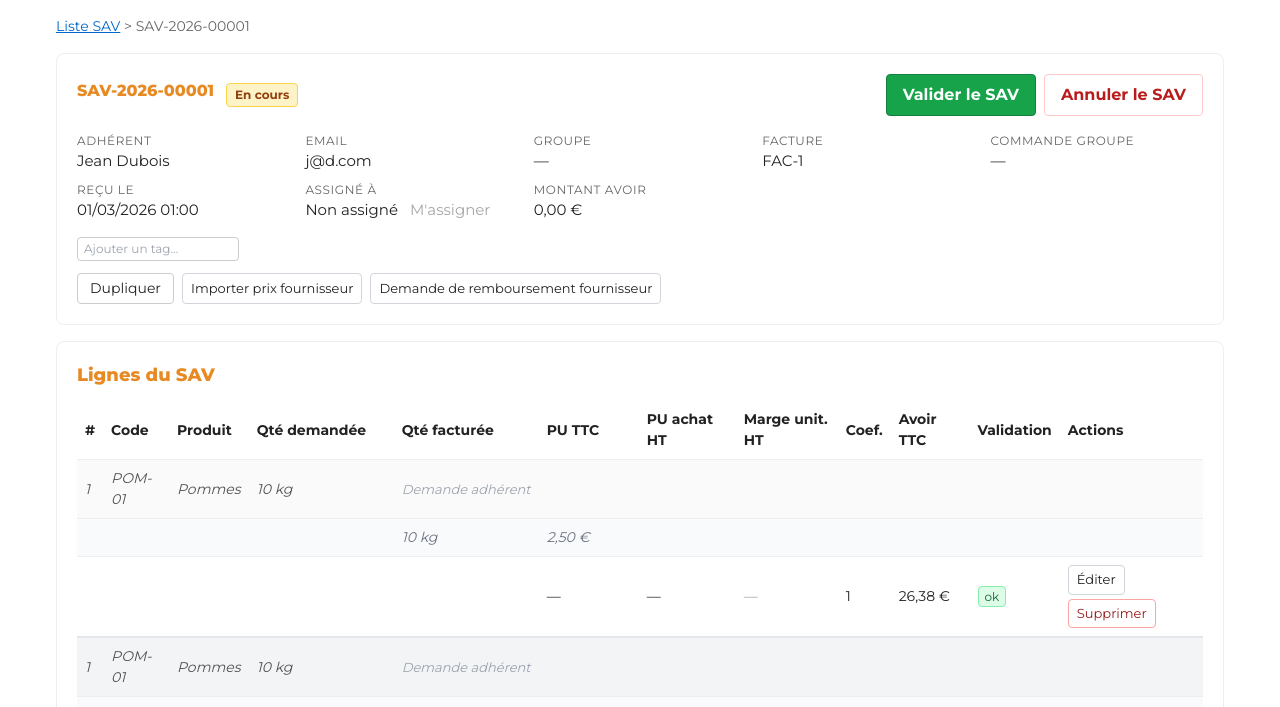
Test: SavDetailView — édition inline lignes (Story 3.6b) › TC-07b : validation OK + wallet warning → toast opérateur explicite
Click the button with test id "sav-validate-btn" at (961, 95), box [886,74,1036,116]
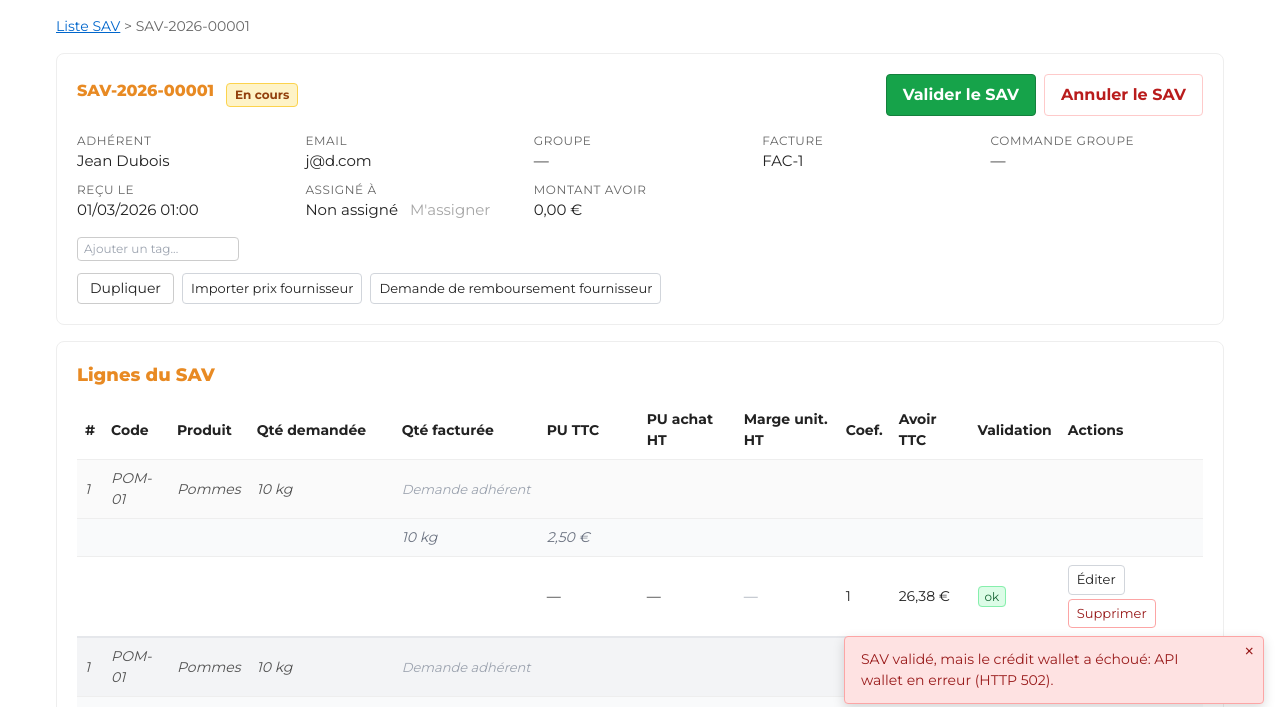
Expected: the message "SAV validé, mais le crédit wallet a échoué: API wallet en erreur (HTTP 502). ×" is shown, [844,636,1264,704]
Expected: the message with test id "sav-toast" shows "crédit wallet a échoué", [861,650,1178,689]
